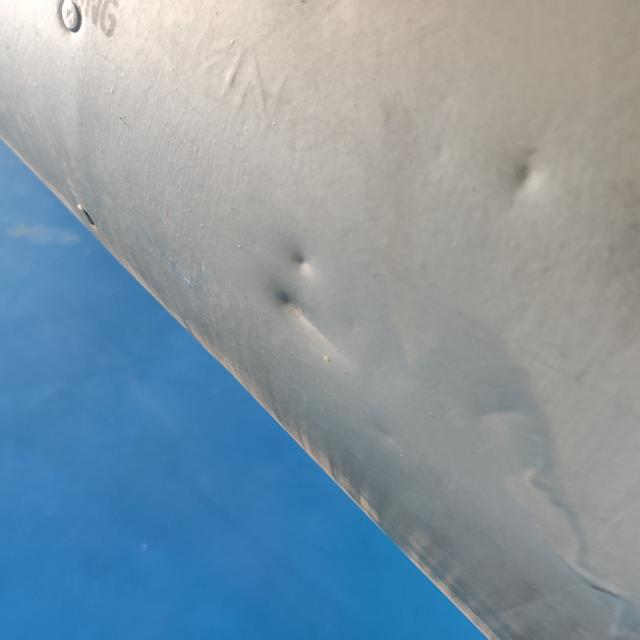Dent: (265, 274, 350, 368), (491, 126, 553, 208), (281, 245, 320, 280)
